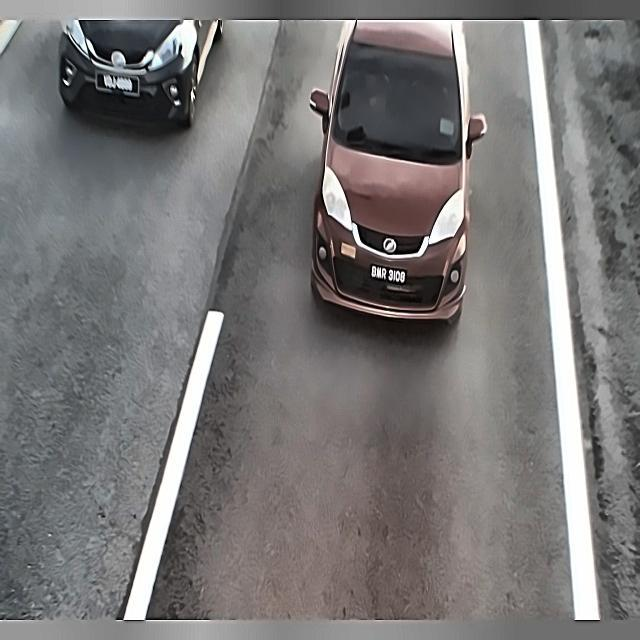car: (92, 68, 142, 100), (369, 258, 408, 292)
